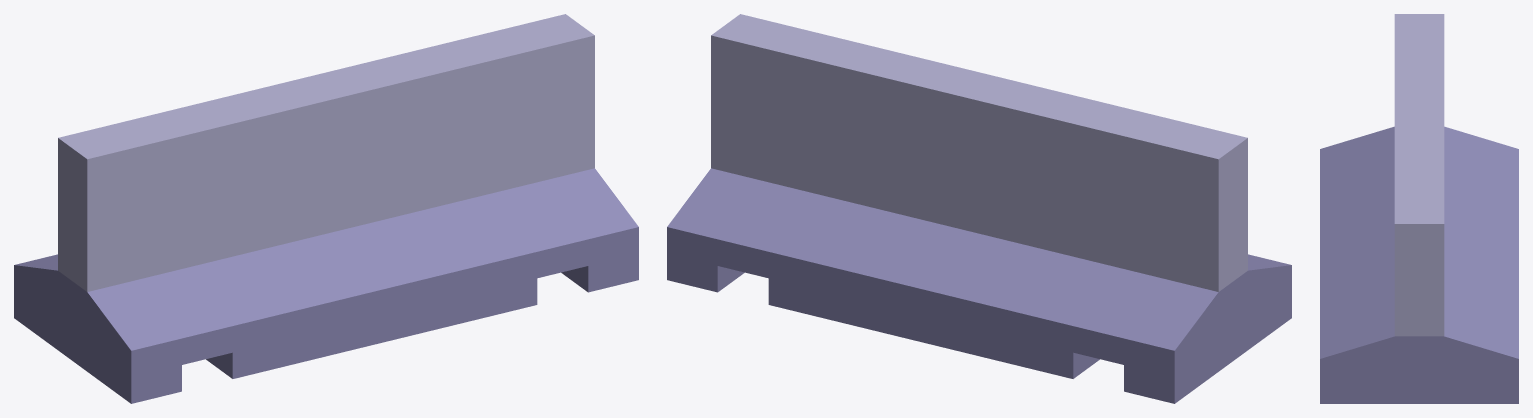
Rendered from roadblock.glb.
3 views of the same model, side by side, from view 1: azimuth 30°, elevation 25°; view 2: azimuth 150°, elevation 25°; view 3: azimuth 270°, elevation 25° (orthographic). The views are drawn at different scales.
Visible parts, largest first — view 1: detail_roadBlockSmall; view 2: detail_roadBlockSmall; view 3: detail_roadBlockSmall.
Boxes of the visible parts, x1=… form: detail_roadBlockSmall: x1=14, y1=14, x2=638, y2=403; detail_roadBlockSmall: x1=667, y1=14, x2=1291, y2=403; detail_roadBlockSmall: x1=1320, y1=14, x2=1518, y2=403.
Bounding box in the file's own units: 1 × 0.4 × 0.4.
